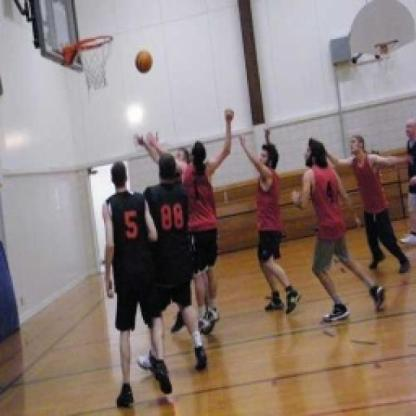basketball: (132, 44, 155, 76)
